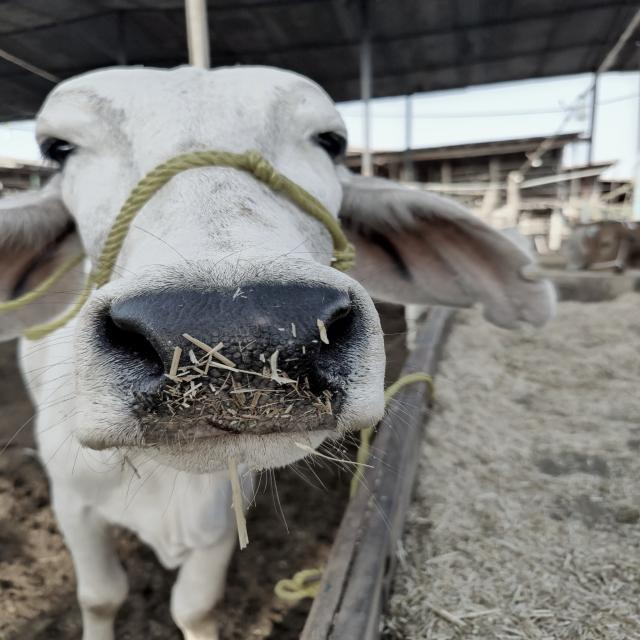muzzles: (75, 273, 367, 446)
